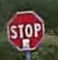stop: (4, 10, 45, 50)
